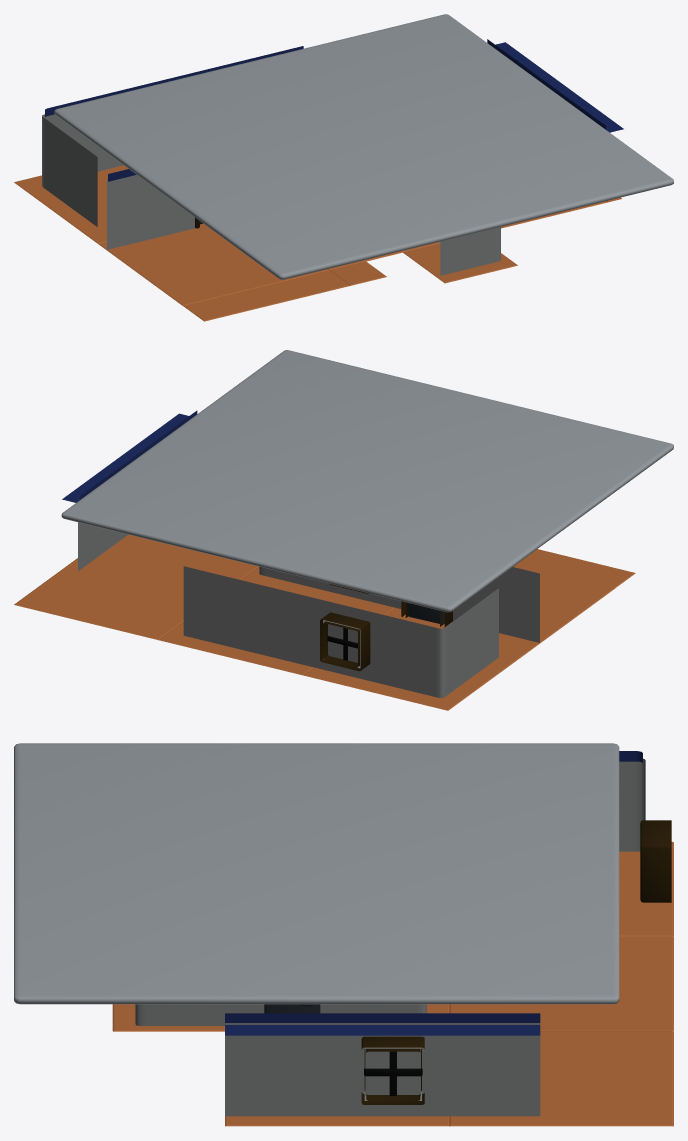
Rendered from Environment.fbx.
3 views of the same model, one above another, from view 1: azimuth 30°, elevation 25°; view 2: azimuth 150°, elevation 25°; view 3: azimuth 270°, elevation 25° (orthographic). The views are drawn at different scales.
Visible parts, largest first — view 1: toon__office_tile_ground_low_4x4, toon__office_tile_ground_low_4x4__2_, toon_office_tile_wall__3_; view 2: toon__office_tile_ground_low_4x4, toon_office_tile_wall__3_, toon__office_tile_ground_low_4x4__2_; view 3: toon__office_tile_ground_low_4x4, toon_office_tile_wall__3_, toon__office_tile_ground_low_4x4__2_.
Part boxes in pixels (bbox=[...]): toon__office_tile_ground_low_4x4: bbox=[54, 14, 673, 279]; toon__office_tile_ground_low_4x4__2_: bbox=[14, 165, 621, 321]; toon_office_tile_wall__3_: bbox=[42, 39, 623, 275]; toon__office_tile_ground_low_4x4: bbox=[61, 350, 673, 612]; toon_office_tile_wall__3_: bbox=[62, 410, 539, 697]; toon__office_tile_ground_low_4x4__2_: bbox=[14, 534, 635, 710]; toon__office_tile_ground_low_4x4: bbox=[14, 743, 619, 1004]; toon_office_tile_wall__3_: bbox=[135, 751, 671, 1116]; toon__office_tile_ground_low_4x4__2_: bbox=[112, 841, 673, 1126].
Size of the model in its own units: 475 by 86.49 by 463.
9 materials, 1 textured.
